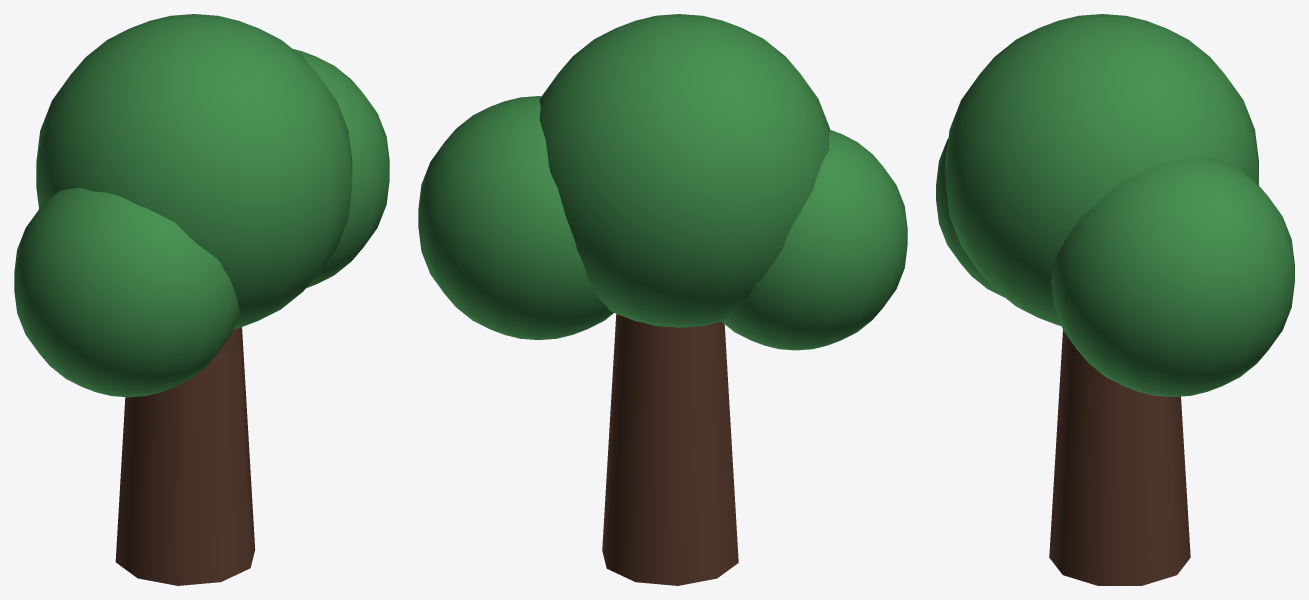
File: tree.glb
3 renders of one model, left to right at view 1: azimuth 30°, elevation 25°; view 2: azimuth 150°, elevation 25°; view 3: azimuth 270°, elevation 25°, orthographic. The views are drawn at different scales.
Bounding box in the file's own units: 2.65 × 3.3 × 2.03.
